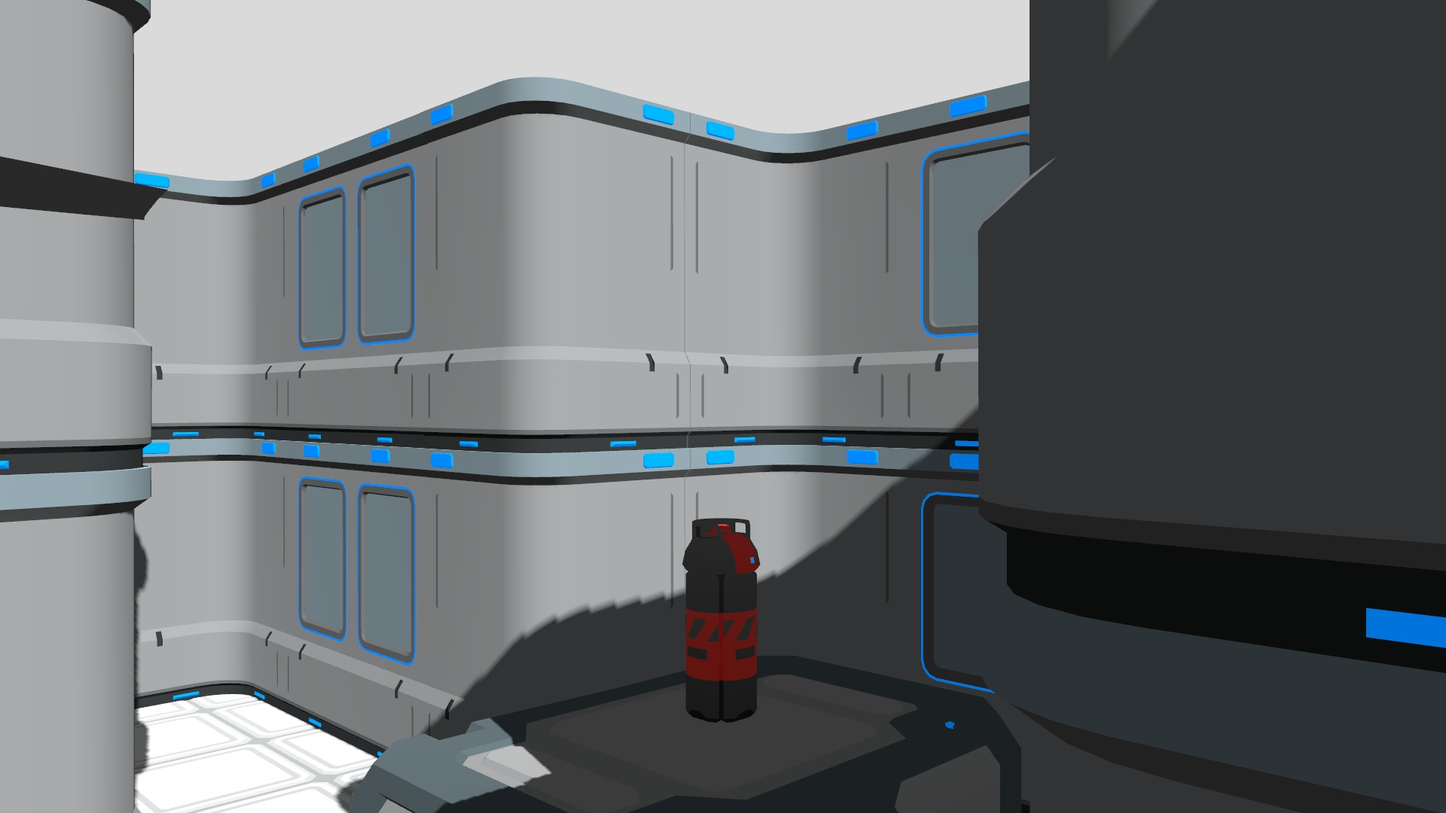red_barrel: (682, 512, 763, 727)
